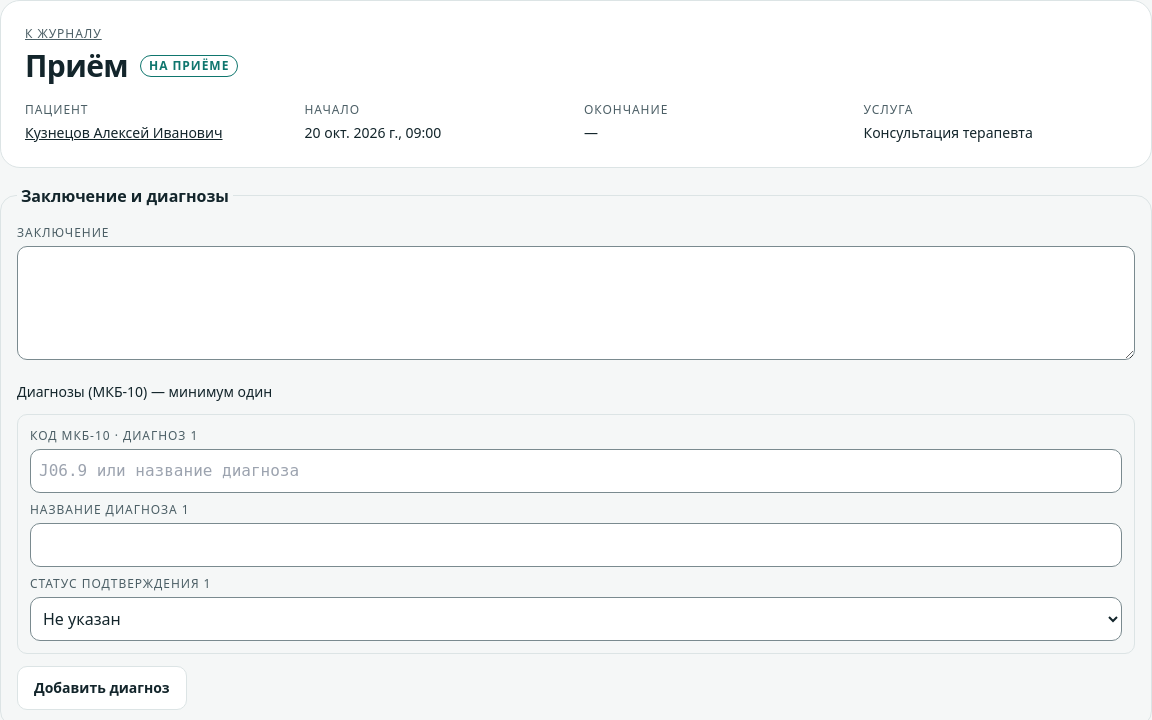
Test case: EncounterView replay of a completed encounter (scenario C2) › should turn into the read-only record when completing answers 409 ENCOUNTER_STATE_INVALID
Type "ОРВИ, состояние удовлетворительное" into the text box labelled "Заключение" at (576, 302), box [17,246,1135,360]
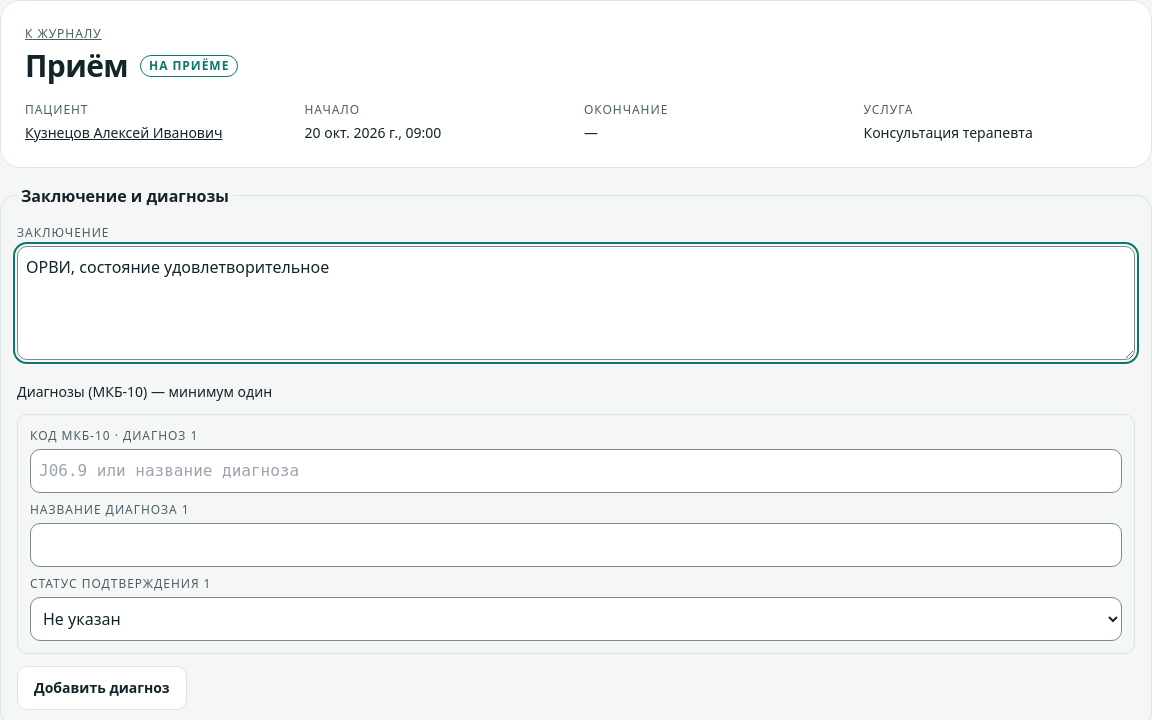
Type "J06.9" into the dropdown labelled "Код МКБ-10 · диагноз 1" at (576, 470), box [30,448,1122,492]
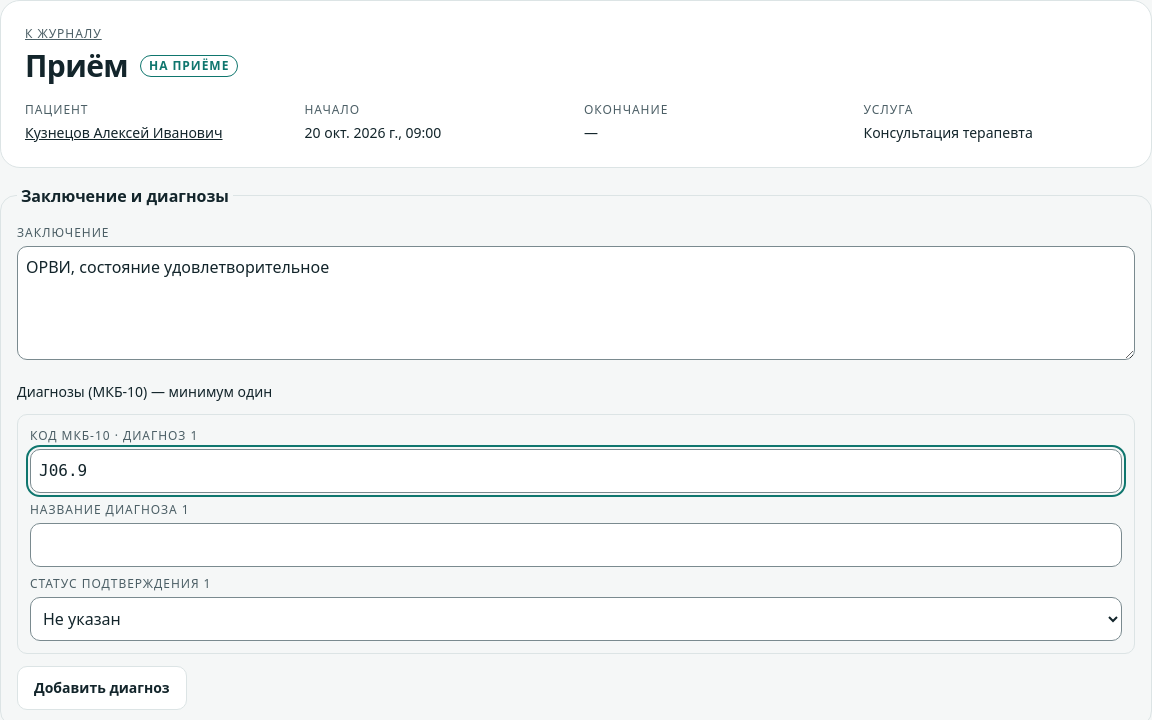
Type "Острый назофарингит" into the field labelled "Название диагноза 1" at (576, 544), box [30,522,1122,566]
(page scrolled)
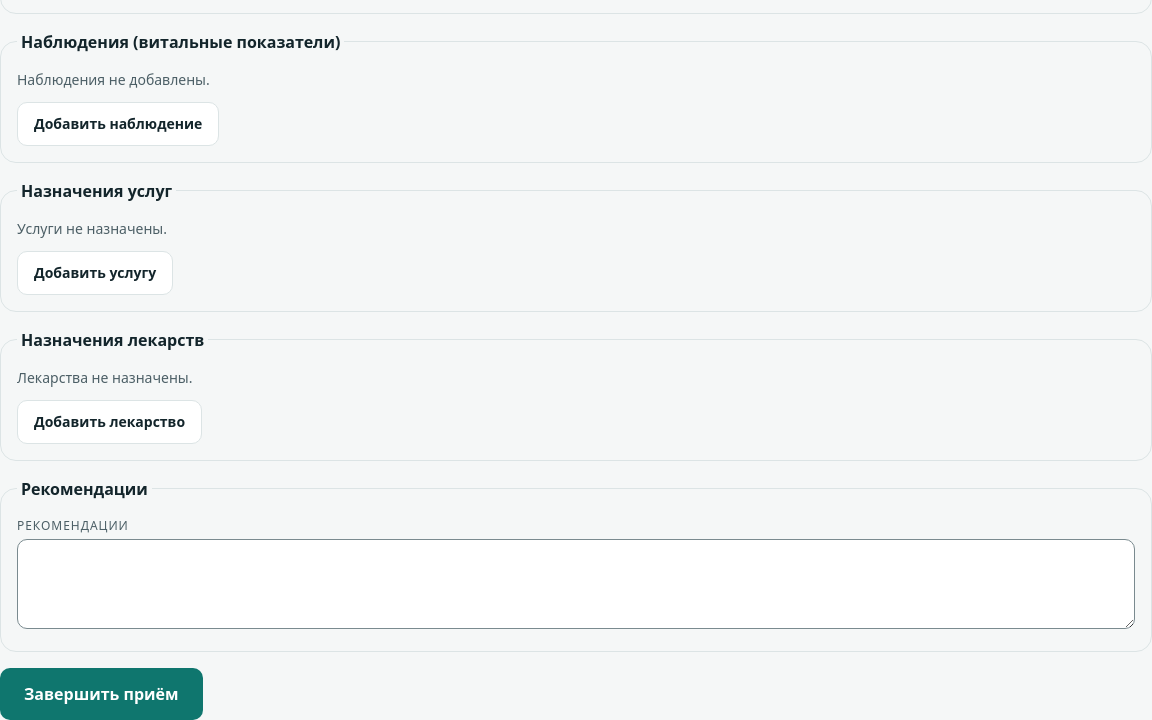
Type "Покой, обильное питьё" into the text box labelled "Рекомендации" at (576, 584), box [17,538,1135,628]
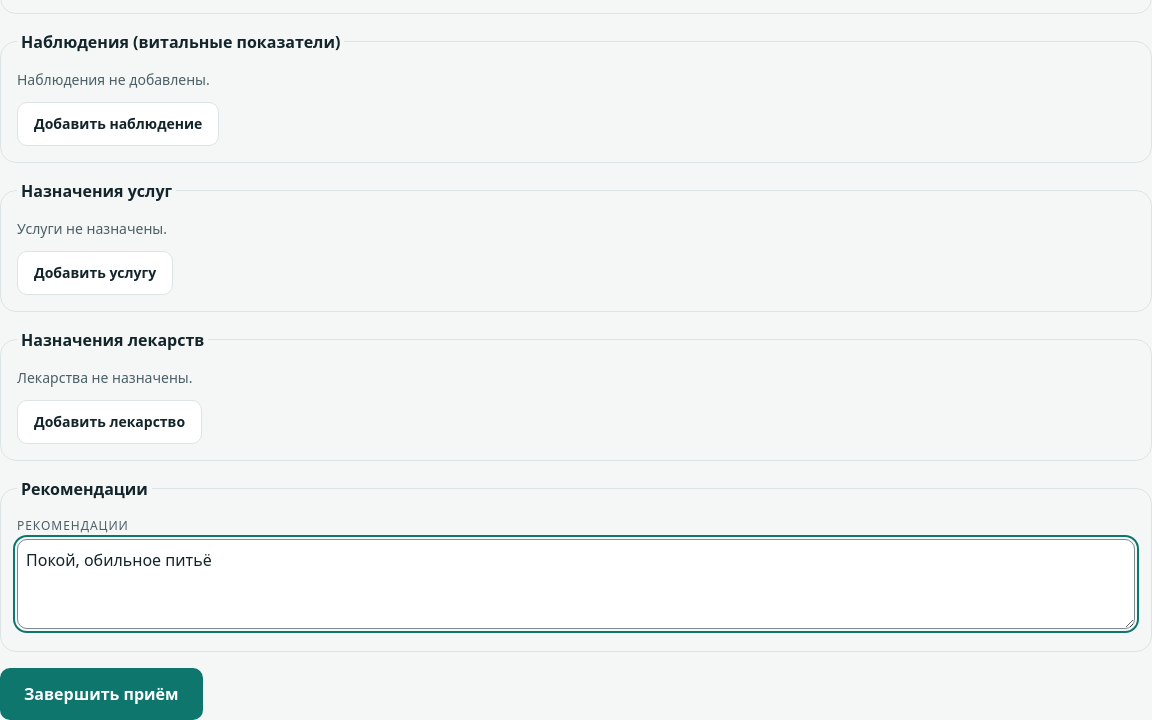
Click the button "Завершить приём" at (101, 694), box [0,668,203,719]
(page scrolled)
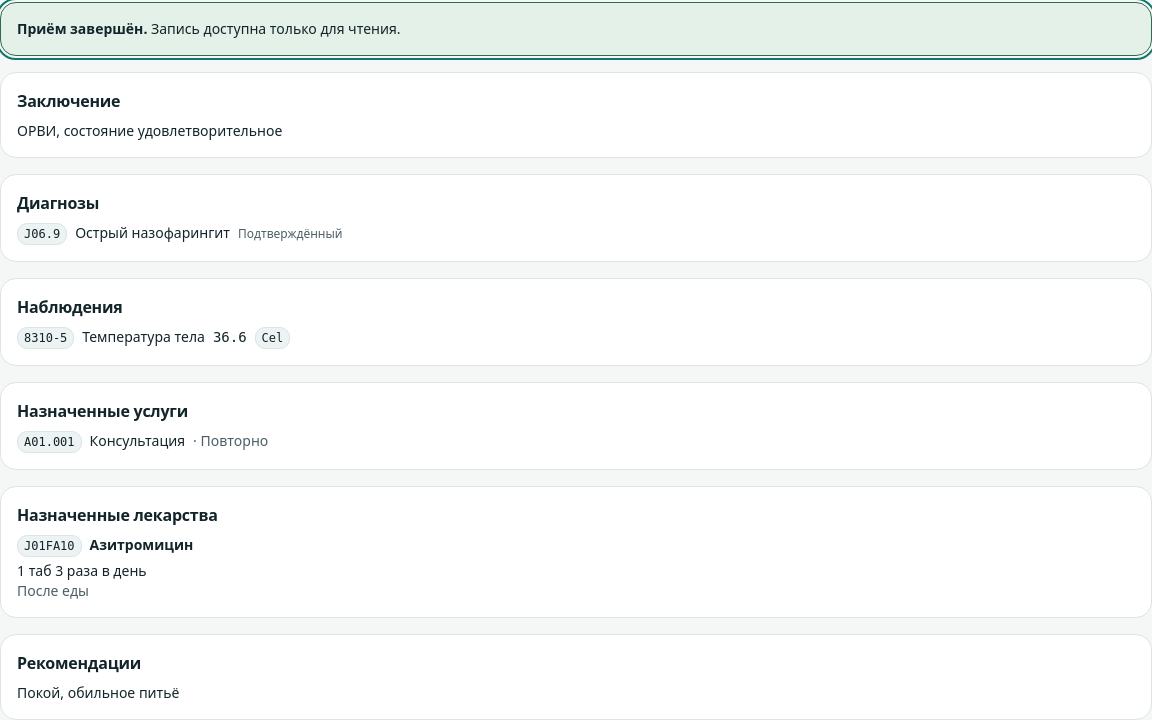
Expected: the element with test id "encounter-record" is shown
Expected: the message "Приём завершён. Запись доступна только для чтения." is shown, [0,2,1151,56]
